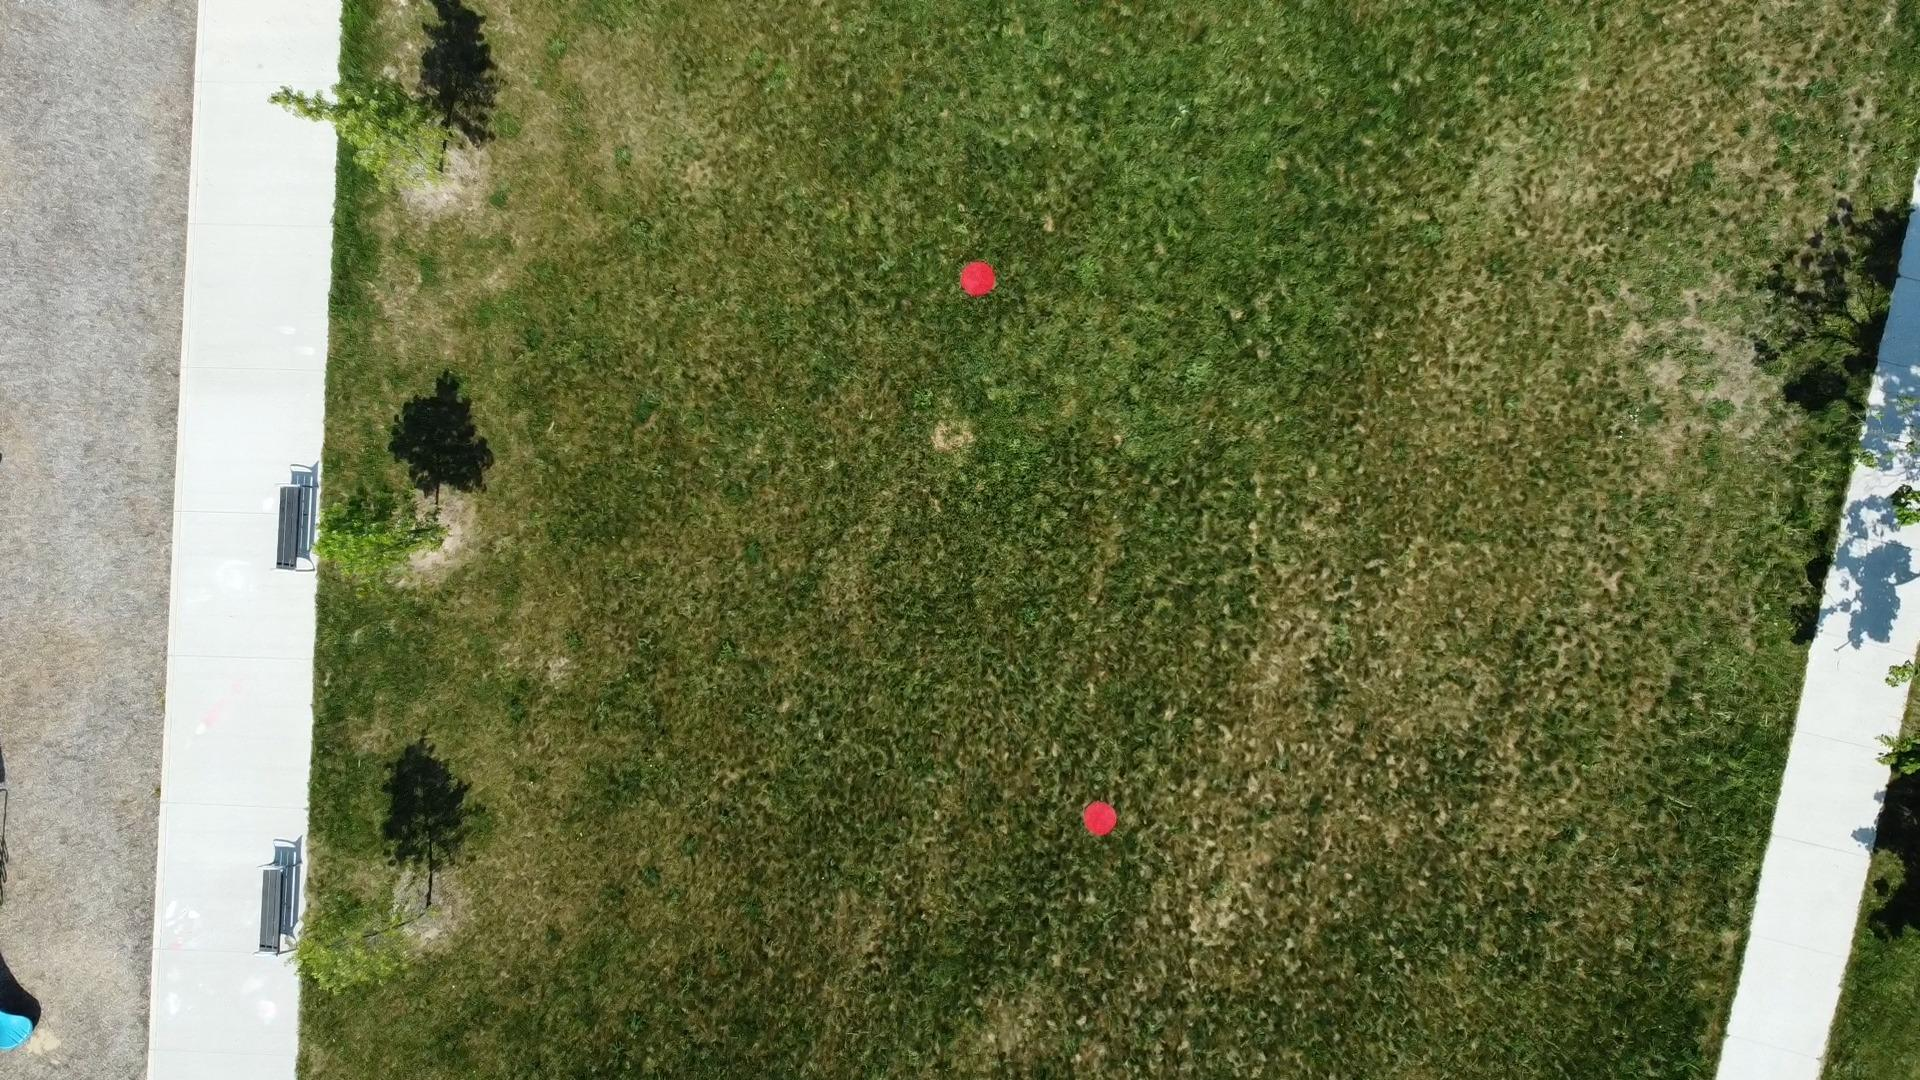Red: (1081, 799, 1121, 839), (959, 260, 997, 297)
